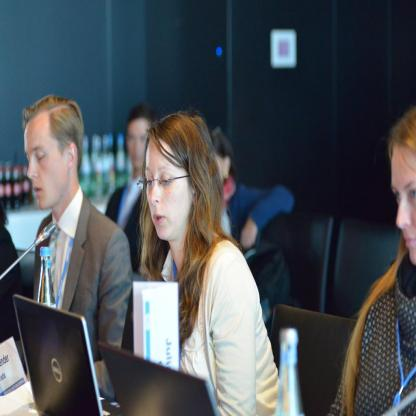board: (17, 296, 100, 414), (100, 344, 222, 416), (276, 326, 305, 416), (37, 247, 56, 311)
